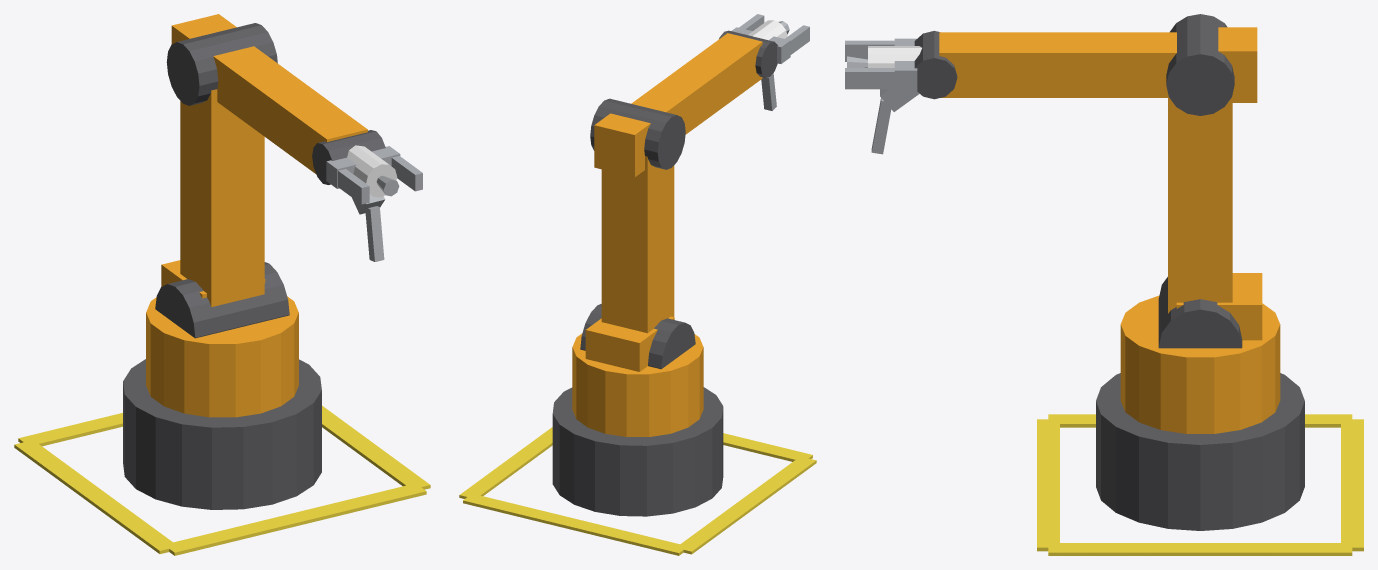
File: robot_arm.glb
The picture shows the model from 3 angles, left to right: view 1: azimuth 30°, elevation 25°; view 2: azimuth 150°, elevation 25°; view 3: azimuth 270°, elevation 25°; orthographic projection. The views are drawn at different scales.
Visible parts, largest first — view 1: Base, UpperArm, Base_Turret, Hazard_Base, Forearm, Shoulder, Elbow, Gripper, Wrist, Spray_Body, Welder_Gun; view 2: Base, UpperArm, Base_Turret, Forearm, Hazard_Base, Elbow, Shoulder, Gripper, Wrist, Spray_Body, Welder_Gun; view 3: Base, Forearm, Base_Turret, UpperArm, Hazard_Base, Elbow, Shoulder, Gripper, Wrist, Welder_Gun, Spray_Body.
Part boxes in pixels (x1=…): Base: x1=123, y1=359, x2=321, y2=509; UpperArm: x1=161, y1=89, x2=265, y2=307; Base_Turret: x1=146, y1=296, x2=298, y2=417; Hazard_Base: x1=14, y1=405, x2=430, y2=555; Forearm: x1=171, y1=14, x2=367, y2=173; Shoulder: x1=155, y1=262, x2=289, y2=338; Elbow: x1=166, y1=23, x2=277, y2=105; Gripper: x1=326, y1=146, x2=422, y2=204; Wrist: x1=312, y1=130, x2=385, y2=184; Spray_Body: x1=347, y1=145, x2=397, y2=197; Welder_Gun: x1=352, y1=194, x2=385, y2=261; Base: x1=552, y1=387, x2=723, y2=516; UpperArm: x1=585, y1=156, x2=674, y2=371; Base_Turret: x1=572, y1=333, x2=703, y2=436; Forearm: x1=594, y1=33, x2=762, y2=177; Hazard_Base: x1=459, y1=427, x2=816, y2=555; Elbow: x1=590, y1=98, x2=685, y2=169; Shoulder: x1=580, y1=304, x2=695, y2=369; Gripper: x1=731, y1=14, x2=809, y2=63; Wrist: x1=719, y1=30, x2=777, y2=77; Spray_Body: x1=748, y1=20, x2=787, y2=40; Welder_Gun: x1=761, y1=72, x2=776, y2=110; Base: x1=1096, y1=373, x2=1304, y2=530; Forearm: x1=939, y1=27, x2=1257, y2=102; Base_Turret: x1=1120, y1=295, x2=1280, y2=433; UpperArm: x1=1168, y1=94, x2=1262, y2=340; Hazard_Base: x1=1037, y1=414, x2=1363, y2=555; Elbow: x1=1166, y1=14, x2=1234, y2=115; Shoulder: x1=1158, y1=277, x2=1242, y2=348; Gripper: x1=845, y1=38, x2=917, y2=91; Wrist: x1=914, y1=30, x2=957, y2=99; Welder_Gun: x1=871, y1=89, x2=919, y2=154; Spray_Body: x1=868, y1=46, x2=921, y2=67.
Size of the model in its own units: 1.72 by 2.63 by 2.73.
